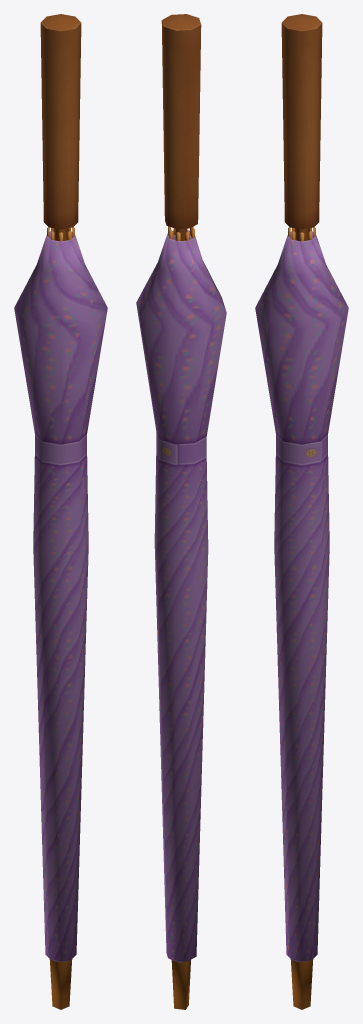
The model's file is set_umbrella_07.fbx.
The picture shows the model from 3 angles, left to right: view 1: azimuth 90°, elevation 25°; view 2: azimuth 210°, elevation 25°; view 3: azimuth 270°, elevation 25°; orthographic projection.
Visible parts, largest first — view 1: set_umbrella_07; view 2: set_umbrella_07; view 3: set_umbrella_07.
Boxes of the visible parts, x1,y1,x2,y2 form: set_umbrella_07: (14, 14, 107, 1009); set_umbrella_07: (136, 14, 226, 1009); set_umbrella_07: (255, 14, 348, 1009).
Size of the model in its own units: 7.05 by 82.16 by 7.05.
